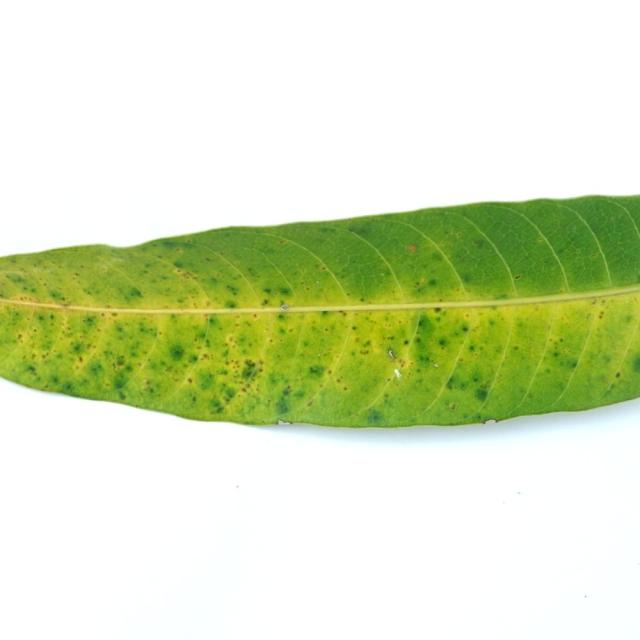Mango: (0, 196, 639, 426)
Powdery_Mildew: (103, 277, 144, 301), (170, 266, 204, 287), (65, 337, 91, 364), (468, 387, 498, 408), (4, 272, 32, 289), (312, 357, 329, 382), (239, 359, 259, 380), (167, 343, 188, 363), (275, 396, 292, 415), (348, 226, 372, 238), (366, 408, 384, 423), (357, 337, 376, 351), (48, 290, 68, 303), (208, 398, 225, 413), (460, 273, 476, 285), (315, 227, 338, 235), (394, 357, 409, 369), (444, 379, 458, 391), (493, 292, 510, 301), (436, 337, 449, 348), (239, 383, 252, 394), (425, 277, 438, 287), (224, 300, 238, 309), (415, 318, 426, 329), (634, 354, 640, 374), (116, 355, 126, 366), (142, 379, 152, 390), (115, 390, 126, 400), (27, 365, 37, 375), (226, 335, 235, 345), (262, 287, 273, 295), (480, 382, 490, 390), (19, 295, 30, 301), (7, 256, 18, 262), (283, 385, 291, 393), (203, 314, 211, 322), (570, 361, 579, 368), (261, 298, 270, 305), (472, 240, 481, 247), (201, 354, 211, 360), (589, 252, 599, 258), (598, 311, 605, 319), (434, 307, 443, 313), (277, 313, 286, 319), (419, 278, 426, 285), (462, 326, 470, 332), (537, 236, 545, 242), (259, 358, 265, 365), (351, 326, 358, 332), (455, 232, 462, 238), (204, 300, 211, 306), (609, 216, 616, 222), (591, 299, 598, 305), (307, 400, 314, 406), (110, 312, 118, 317), (513, 275, 521, 280), (175, 247, 182, 252), (205, 257, 212, 262), (279, 239, 286, 244), (616, 372, 621, 378), (513, 345, 519, 350), (187, 378, 193, 383), (17, 334, 23, 339), (558, 288, 564, 293), (157, 330, 162, 336), (100, 312, 106, 317), (450, 403, 455, 409), (404, 340, 409, 345), (416, 281, 421, 286), (355, 337, 360, 342), (455, 287, 460, 292), (465, 313, 470, 318), (359, 298, 365, 302), (339, 310, 345, 314), (637, 274, 640, 282), (558, 338, 564, 342), (218, 252, 224, 256), (385, 336, 391, 340), (105, 304, 111, 308), (321, 266, 326, 270), (305, 287, 310, 291), (438, 298, 443, 302), (343, 386, 347, 391), (32, 328, 37, 332), (458, 358, 463, 362), (269, 339, 273, 344), (324, 328, 329, 332), (253, 313, 257, 318), (387, 377, 391, 382), (380, 272, 385, 276), (337, 378, 341, 382), (548, 338, 552, 342), (79, 265, 84, 268)
